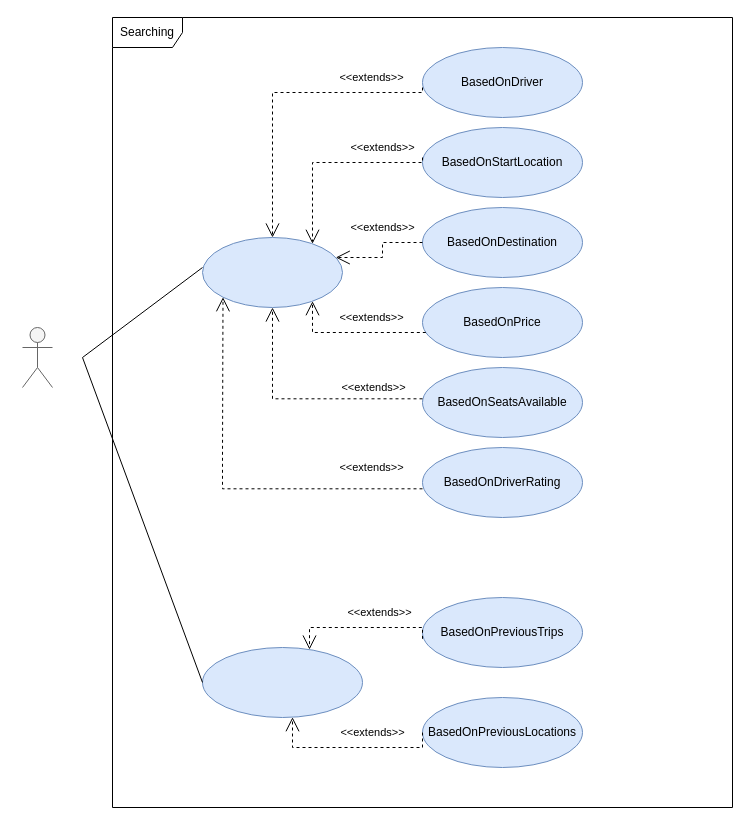
Image size: 750x825. Some labels were removed from this diagram. Here are the shapes that lost their labels. From the top down, the centre of each, then its label:
point 272,272: Search
point 37,357: Student
point 282,682: ViewRecommendedTrips
